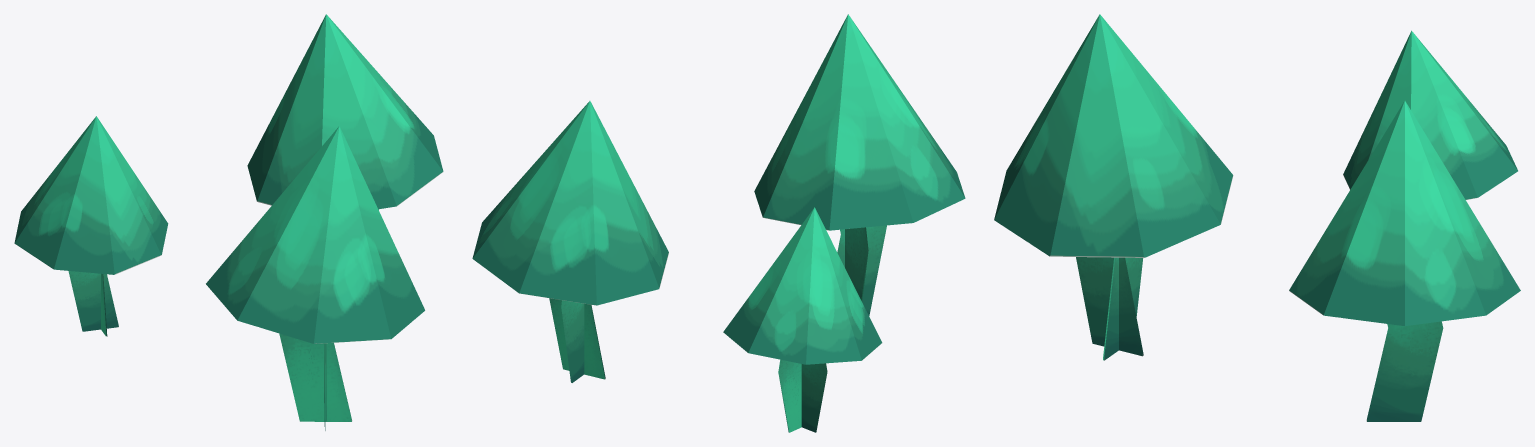
Rendered from Glow_plant06.fbx.
3 renders of one model, left to right at view 1: azimuth 30°, elevation 25°; view 2: azimuth 150°, elevation 25°; view 3: azimuth 270°, elevation 25°, orthographic. The views are drawn at different scales.
Parts seen in each view (by area): view 1: Glow_plant_06; view 2: Glow_plant_06; view 3: Glow_plant_06.
Part boxes in pixels (box(x1,y1,x2,y2)): Glow_plant_06: box(14, 14, 443, 430); Glow_plant_06: box(472, 14, 965, 432); Glow_plant_06: box(994, 14, 1520, 421).
Size of the model in its own units: 0.1874 by 0.1349 by 0.19.
Materials: 1 (1 with a texture image).
